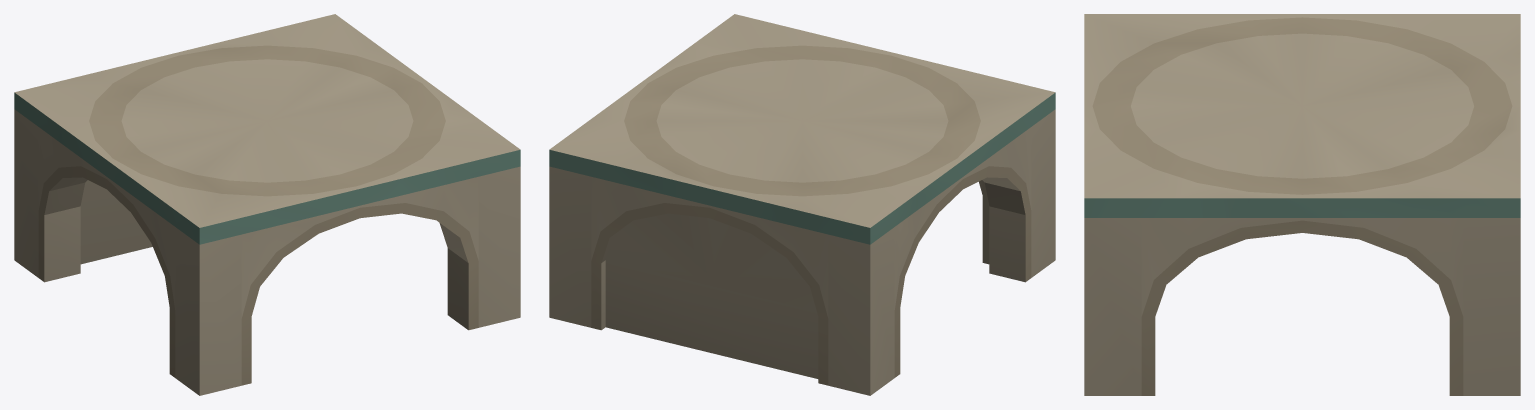
Rendered from dome.arch_3way.copper.glb.
3 views of the same model, side by side, from view 1: azimuth 30°, elevation 25°; view 2: azimuth 150°, elevation 25°; view 3: azimuth 270°, elevation 25° (orthographic). The views are drawn at different scales.
Parts seen in each view (by area): view 1: dome_arch_3way_copper; view 2: dome_arch_3way_copper; view 3: dome_arch_3way_copper.
Boxes of the visible parts, bbox=[...] form: dome_arch_3way_copper: bbox=[14, 14, 520, 395]; dome_arch_3way_copper: bbox=[549, 14, 1055, 395]; dome_arch_3way_copper: bbox=[1084, 14, 1520, 395].
Size of what is drawn, in the model's own units: 8 by 4 by 8.
